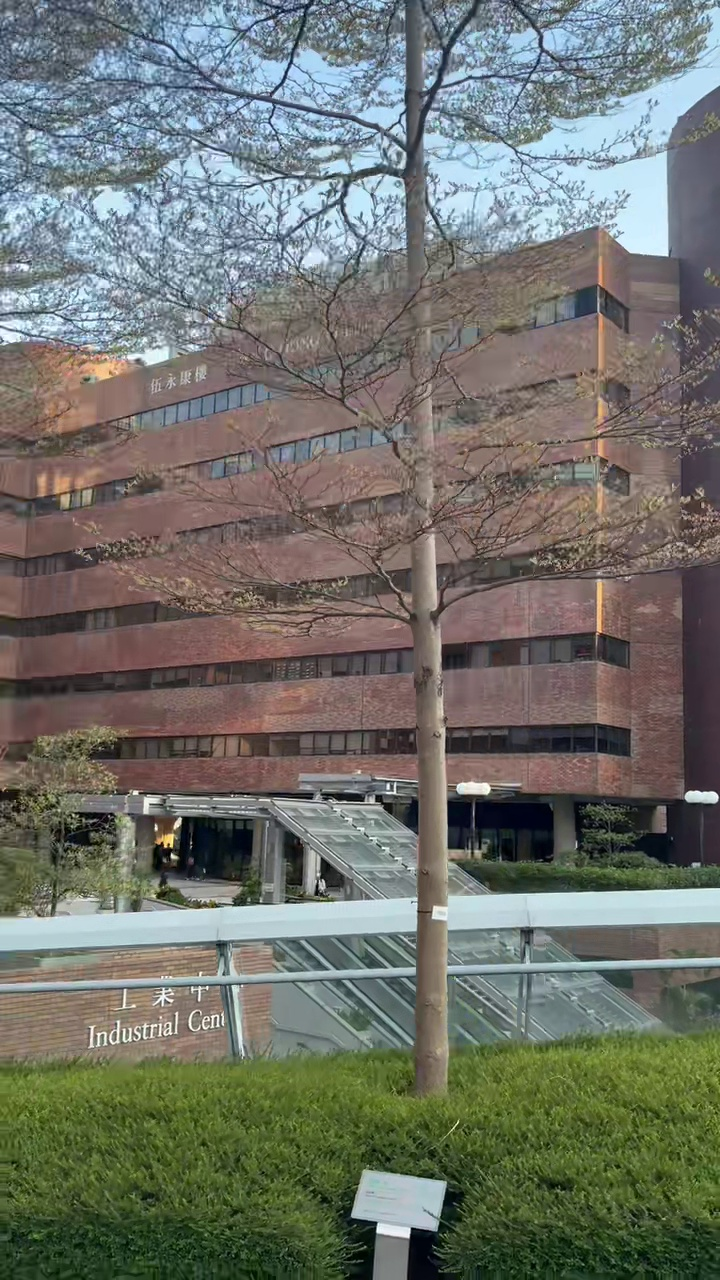Terminalia mantaly: (0, 0, 719, 1093)
